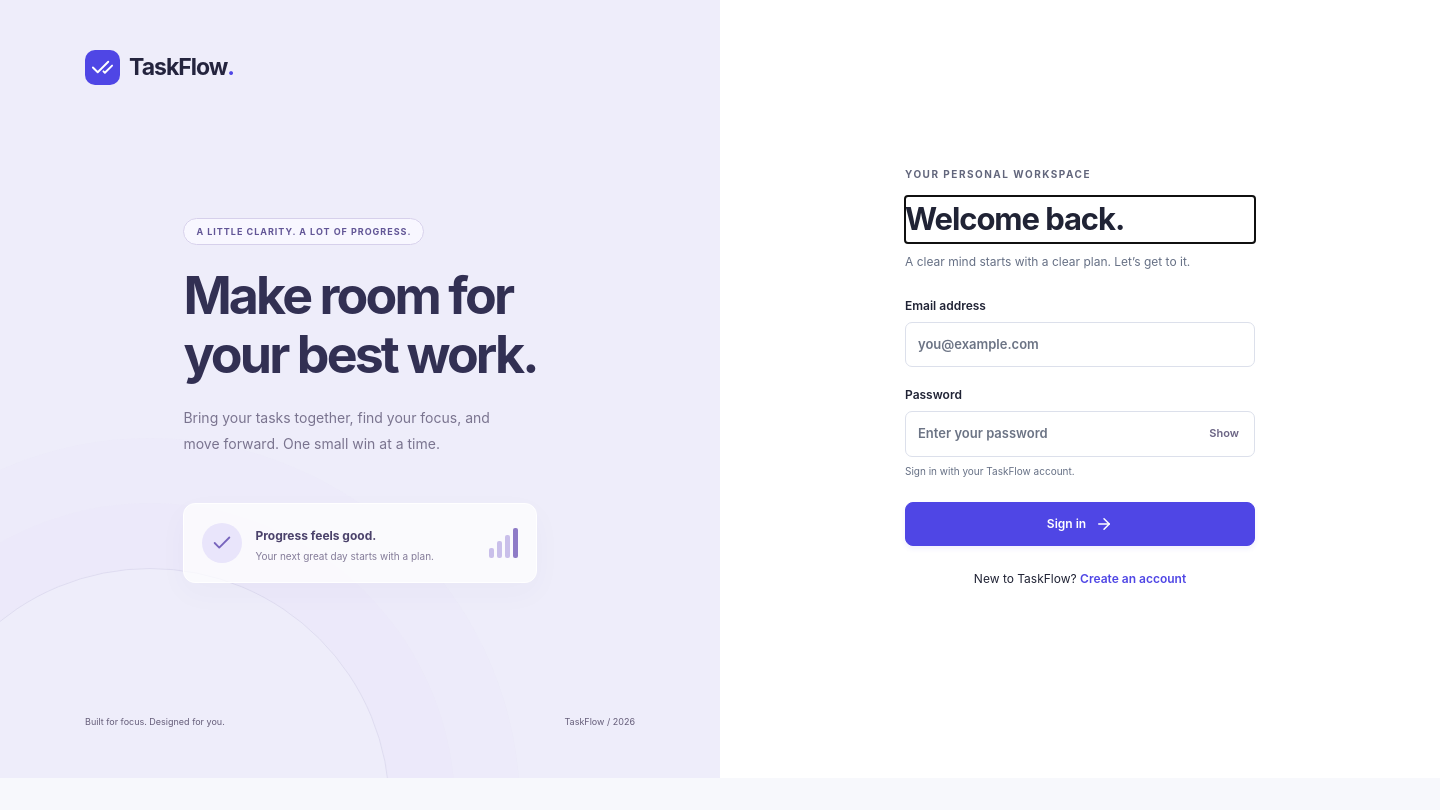
distinguishes initial loading from loaded data
Type "demo@taskflow.app" into the field labelled "Email address" at (1080, 345), box [905, 322, 1255, 367]
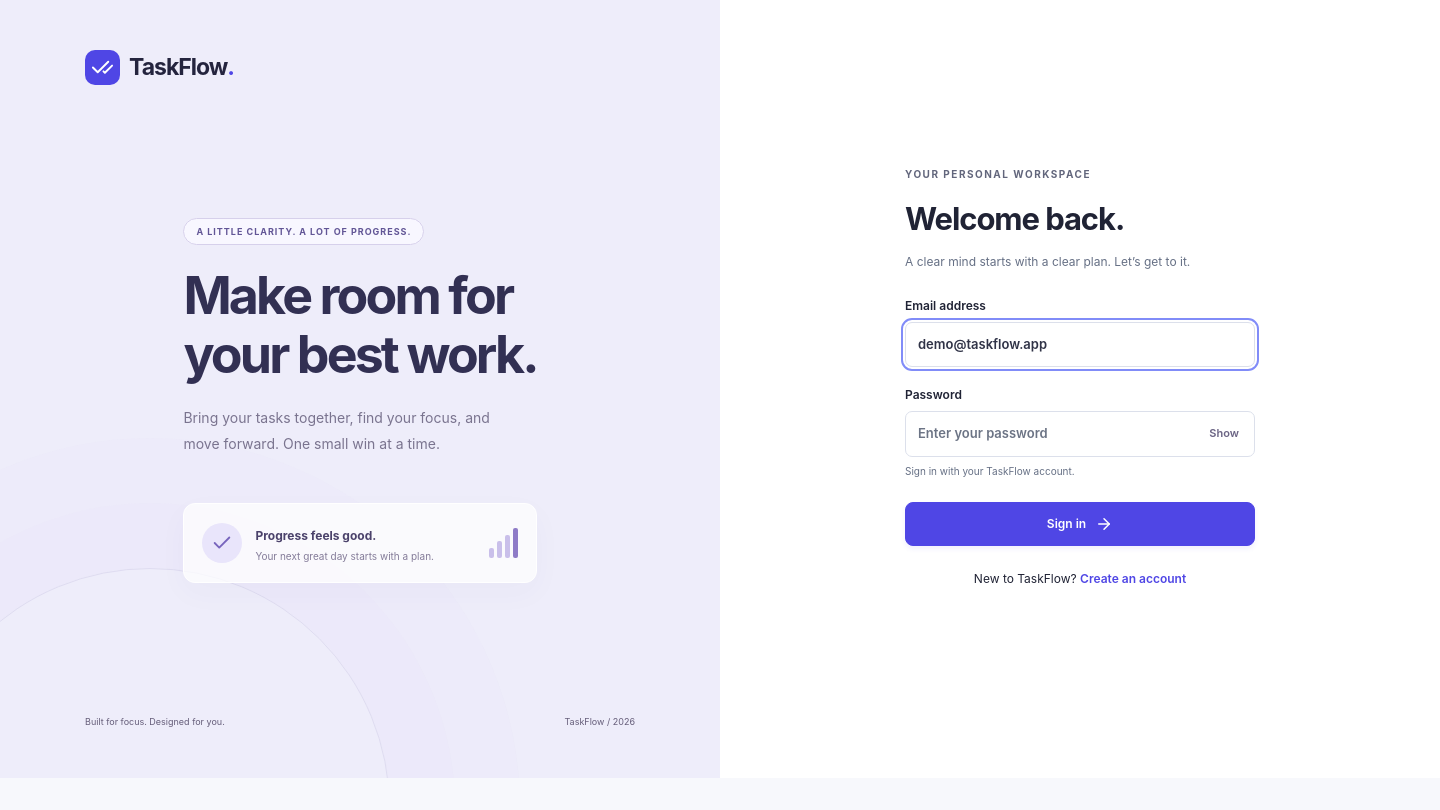
Type "TaskflowDemo!2026" into the password field labelled "Password" at (1080, 434), box [905, 411, 1255, 457]
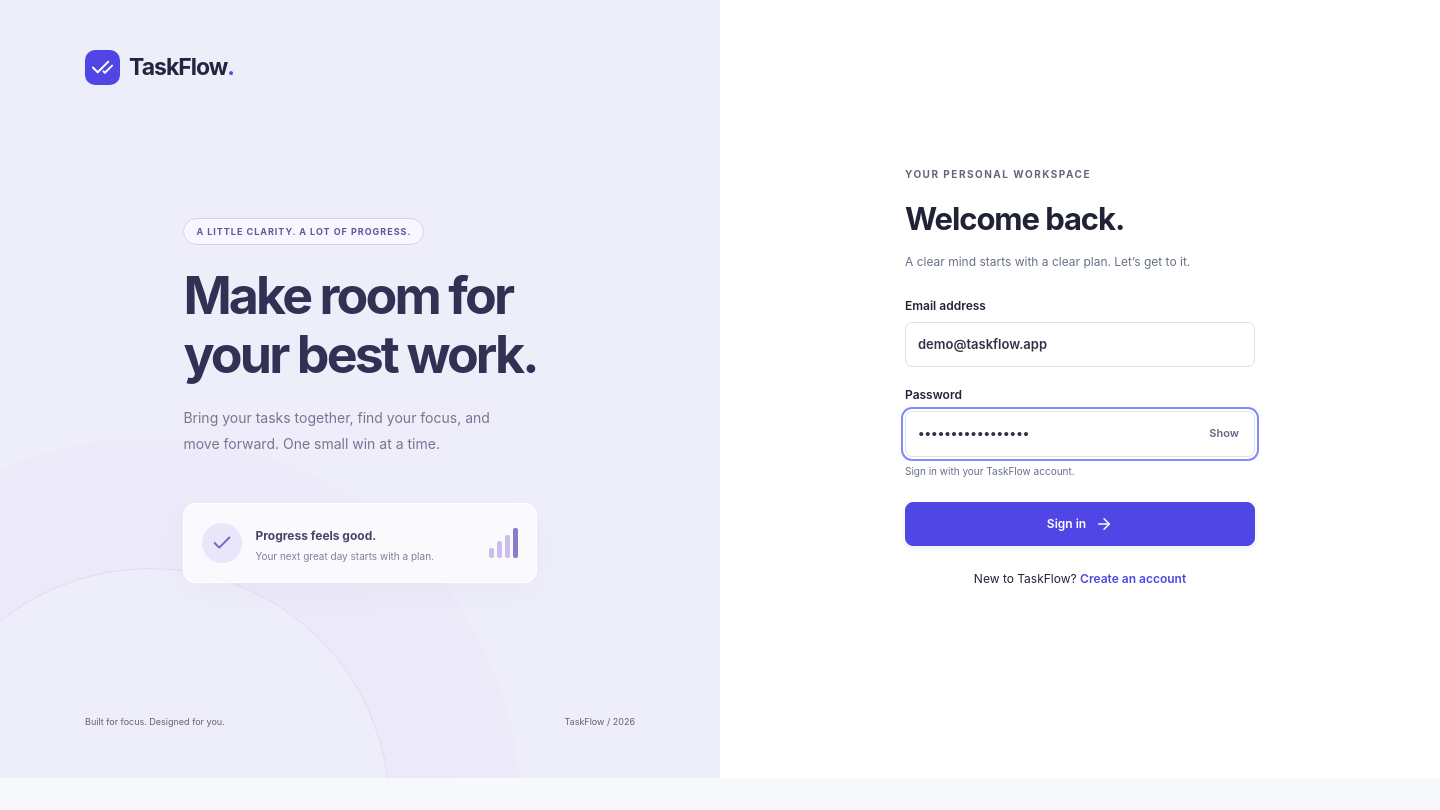
Click the button "Sign in" at (1080, 524), box [905, 502, 1255, 546]
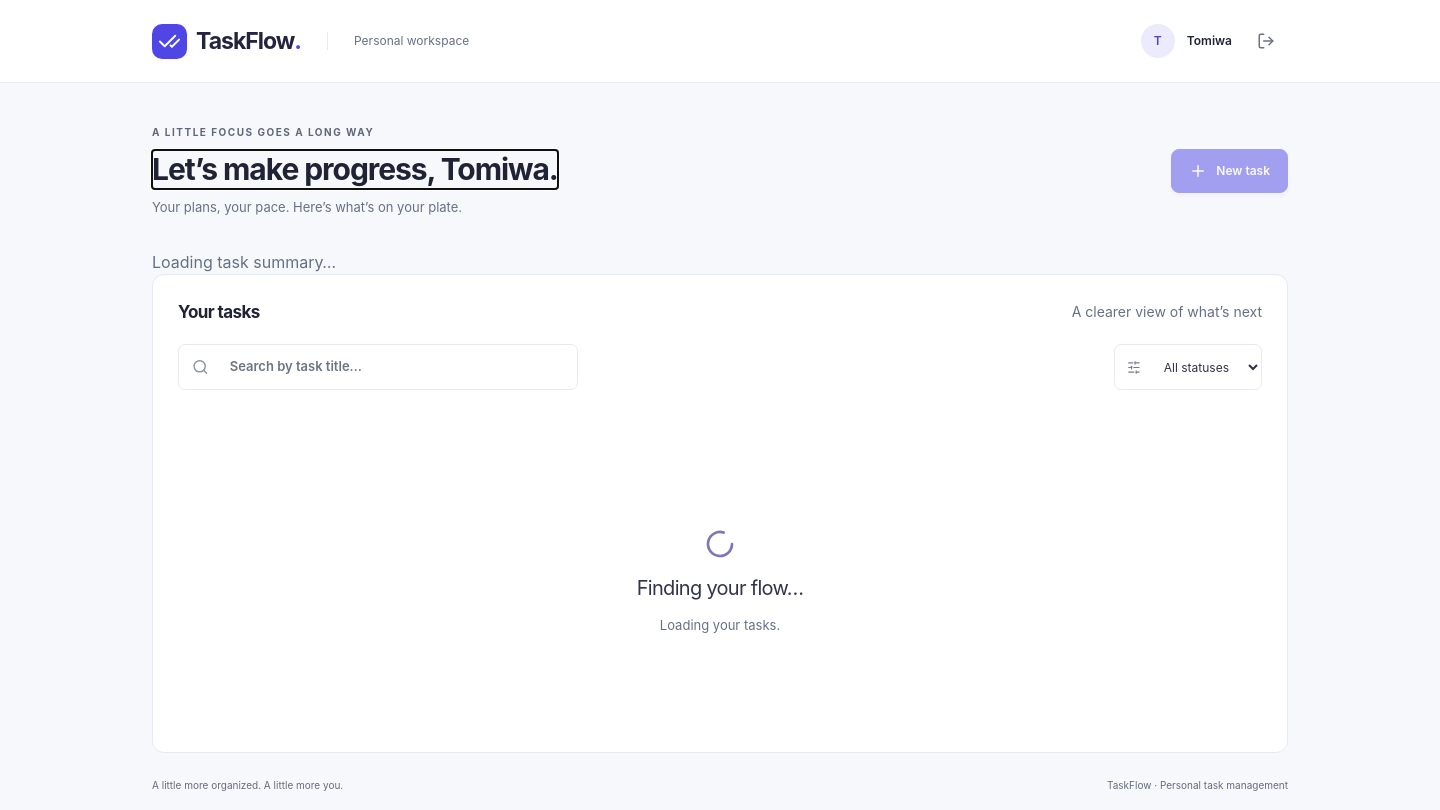
Now the heading "Let’s make progress, Tomiwa." is shown, box [152, 150, 558, 189]
Now the heading "Finding your flow…" is shown, box [637, 573, 803, 603]
Now the button "New task" is disabled, box [1171, 149, 1288, 193]
